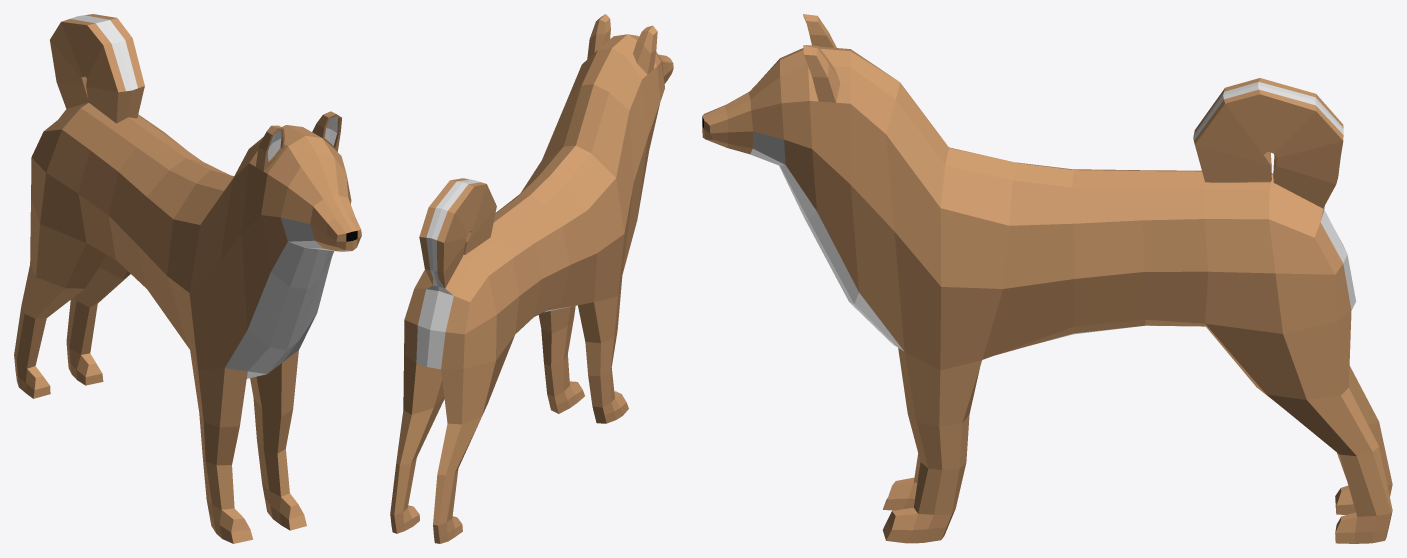
File: 19dogFinal.fbx
The picture shows the model from 3 angles, left to right: view 1: azimuth 30°, elevation 25°; view 2: azimuth 150°, elevation 25°; view 3: azimuth 270°, elevation 25°; orthographic projection. The views are drawn at different scales.
Parts seen in each view (by area): view 1: 19dogFinal; view 2: 19dogFinal; view 3: 19dogFinal.
Boxes of the visible parts, x1,y1,x2,y2 form: 19dogFinal: (14, 14, 361, 543); 19dogFinal: (390, 14, 673, 543); 19dogFinal: (702, 14, 1392, 543).
Size of the model in its own units: 25.77 by 97.95 by 124.
